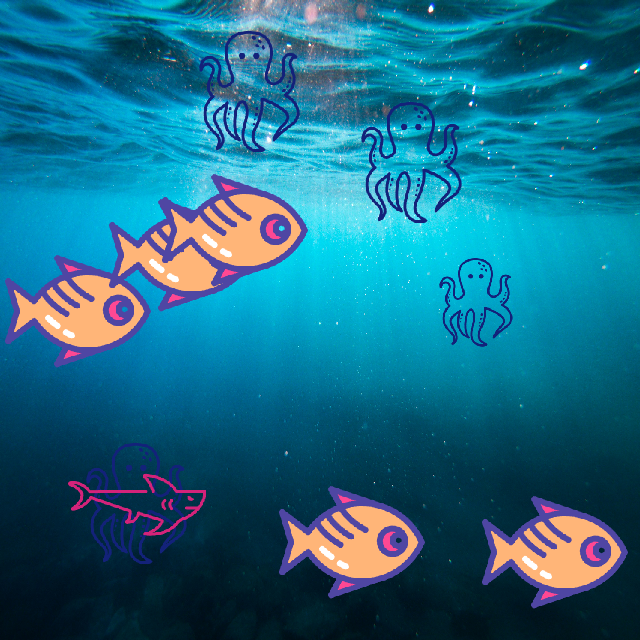target fish: (55, 468, 239, 562)
